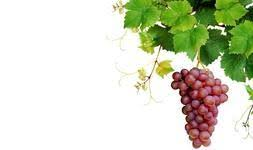Red Grapes: (169, 66, 233, 150)
